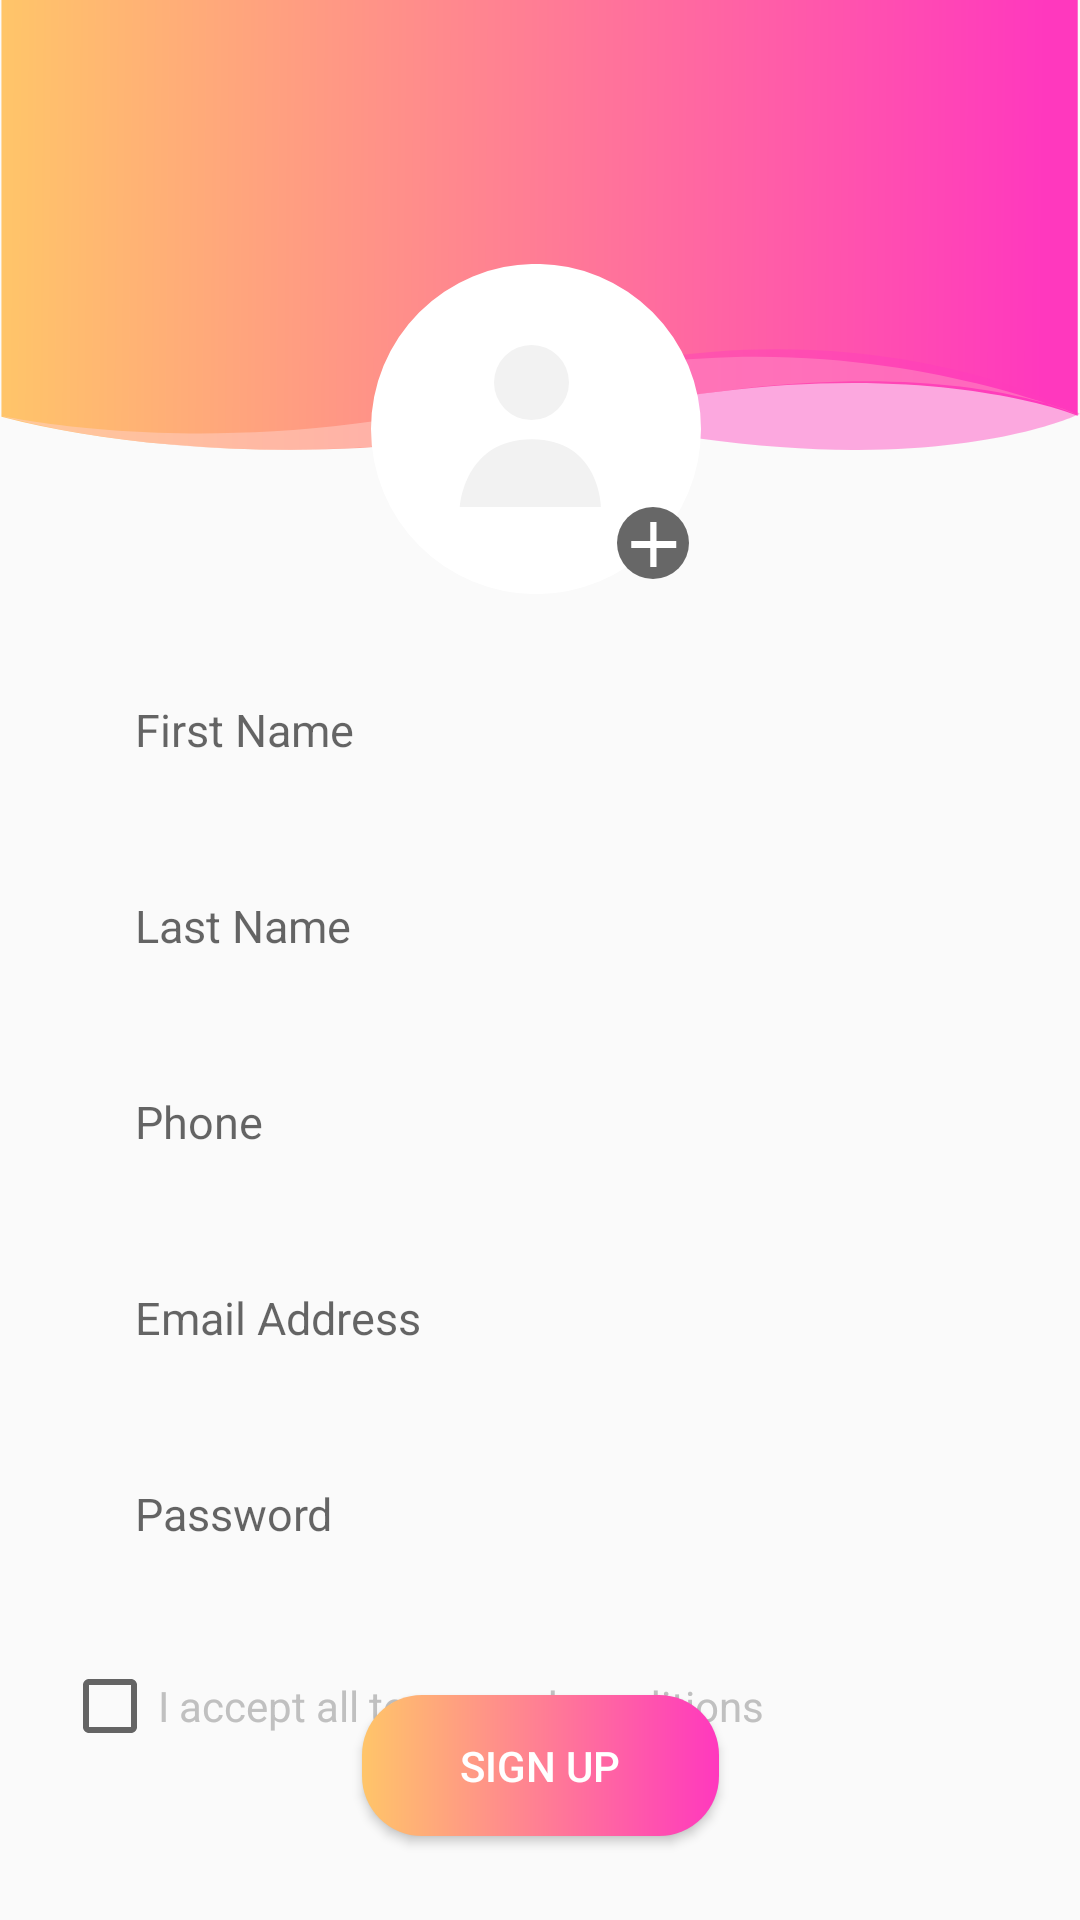

Icon click points for this 1080x1920 phone screenshot, format (x,y):
add profile pic: (536,429)
